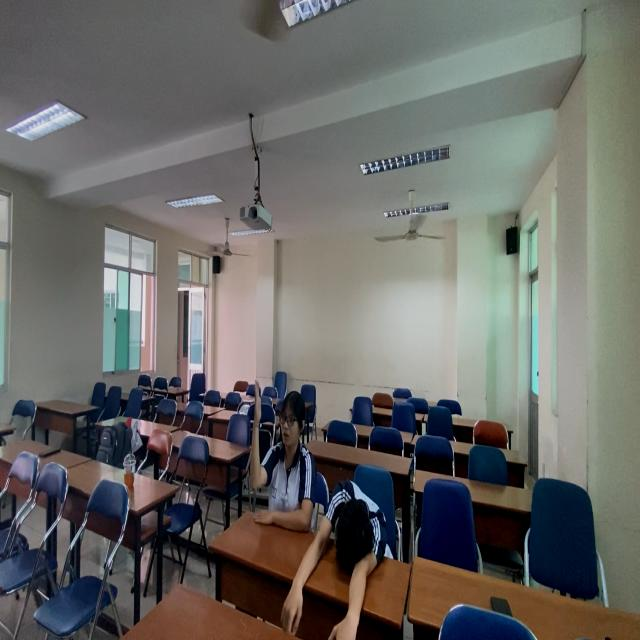raise_hand: (247, 386, 316, 523)
sleep: (317, 476, 394, 598)
